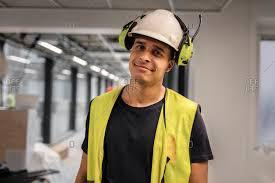helmet: (125, 9, 185, 50)
